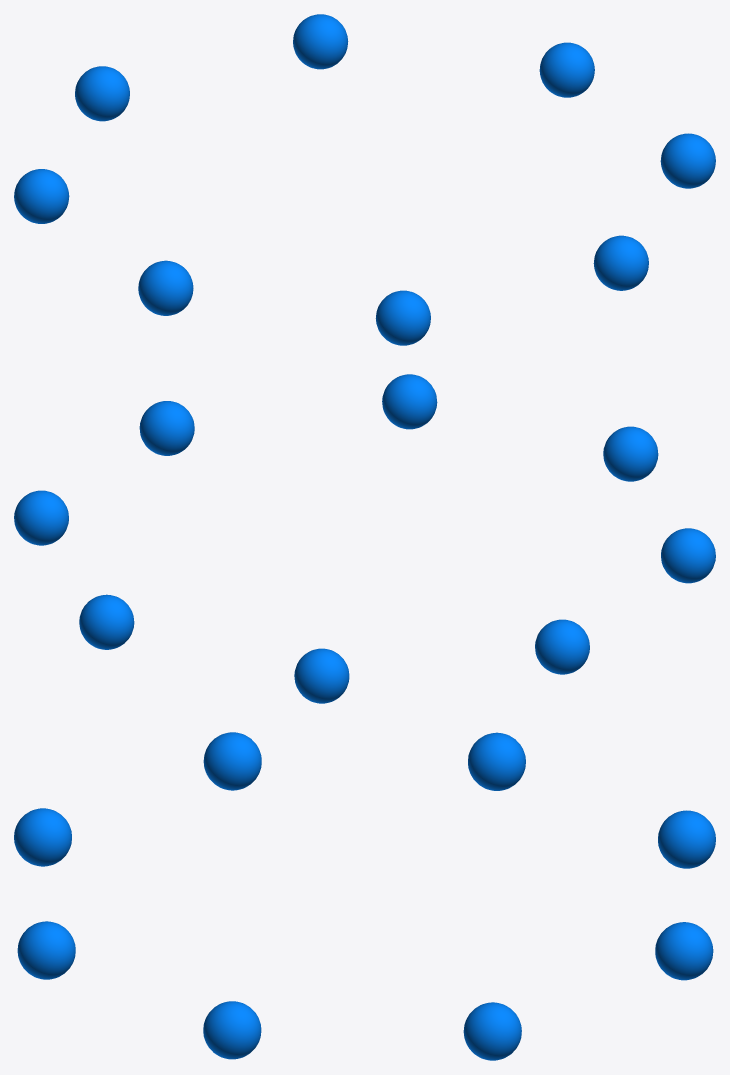
3 views of the same model, one above another, from view 1: azimuth 30°, elevation 25°; view 2: azimuth 150°, elevation 25°; view 3: azimuth 270°, elevation 25° (orthographic). The views are drawn at different scales.
Visible parts, largest first — view 1: Sphere047; view 2: Sphere047; view 3: Sphere047.
Part boxes in pixels (bbox=[...]): Sphere047: bbox=[14, 14, 715, 345]; Sphere047: bbox=[14, 374, 715, 703]; Sphere047: bbox=[14, 732, 715, 1060].
Size of the model in its own units: 98.24 by 8.22 by 98.9.
